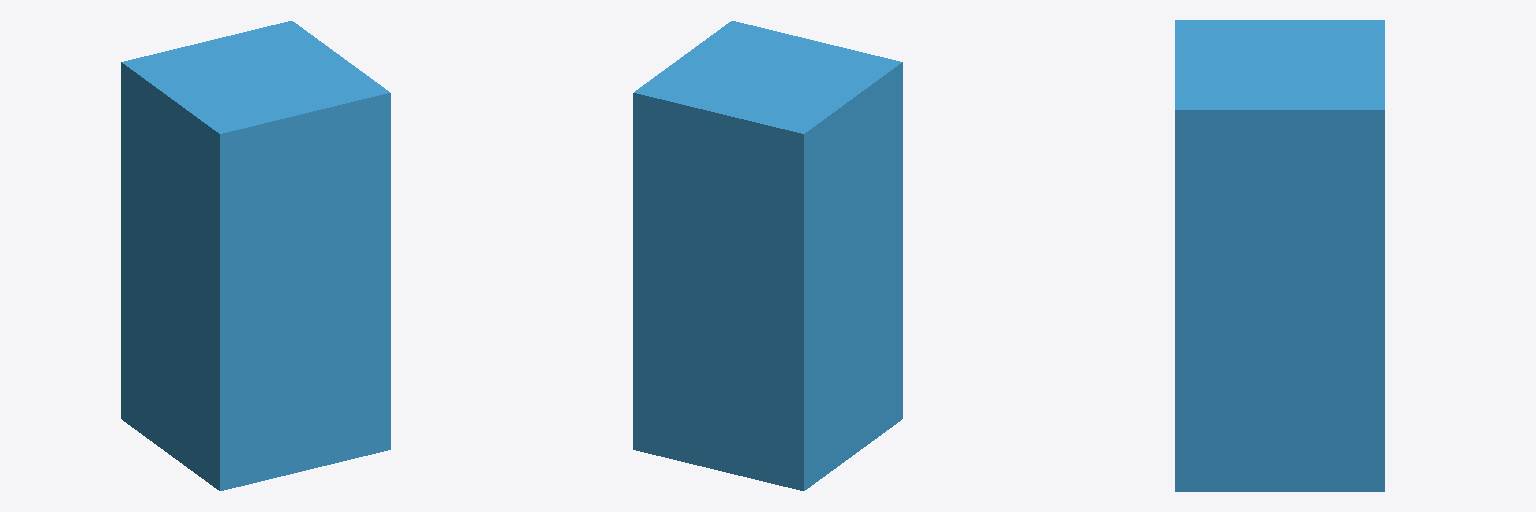
robot.urdf — simple_box:
<robot name="simple_box">
  <link name="world"/>
  <joint name="my_box_joint" type="continuous" >
    <!-- axis is in the parent link frame coordintates -->
    <axis xyz="0 1 0" />
    <parent link="world" />
    <child link="my_box" />
    <!-- initial pose of my_box joint/link in the parent frame coordiantes -->
    <origin xyz="0 0 2" rpy="0 0 0" />
  </joint>
  <link name="my_box">
    <inertial>
      <mass value="1.0" />
      <!-- center of mass (com) is defined w.r.t. link local coordinate system -->
      <origin xyz="1 0 0" /> 
      <inertia  ixx="1.0" ixy="0.0"  ixz="0.0"  iyy="100.0"  iyz="0.0"  izz="1.0" />
    </inertial>
    <visual>
      <!-- visual origin is defined w.r.t. link local coordinate system -->
      <origin xyz="1 0 0" rpy="0 0 0" />
      <geometry>
        <box size="0.05 0.05 0.10" />
      </geometry>
    </visual>
    <collision>
      <!-- collision origin is defined w.r.t. link local coordinate system -->
      <origin xyz="1 0 0" rpy="0 0 0 " />
      <geometry>
        <box size="0.05 0.05 0.10" />
      </geometry>
    </collision>
  </link>
  <gazebo reference="my_box">
    <material>Gazebo/Blue</material>
    <turnGravityOff>false</turnGravityOff>
  </gazebo>
</robot>

--- Facts derived from the render (not from the file) ---
Views: 3 orthographic renders of the robot side by side, from view 1: azimuth 30°, elevation 25°; view 2: azimuth 150°, elevation 25°; view 3: azimuth 270°, elevation 25°.
Model simple_box with 2 links and 1 joints (1 continuous), rooted at world, posed every joint at zero.
Links seen in each view (by area): view 1: my_box; view 2: my_box; view 3: my_box.
Link boxes in pixels (box(x1,y1,x2,y2)): my_box: box(121, 21, 390, 490); my_box: box(633, 21, 902, 490); my_box: box(1175, 20, 1384, 491).
Size in the robot's own frame: 0.05 by 0.05 by 0.1 metres.
Geometry: primitives only (box / cylinder / sphere), no mesh files.